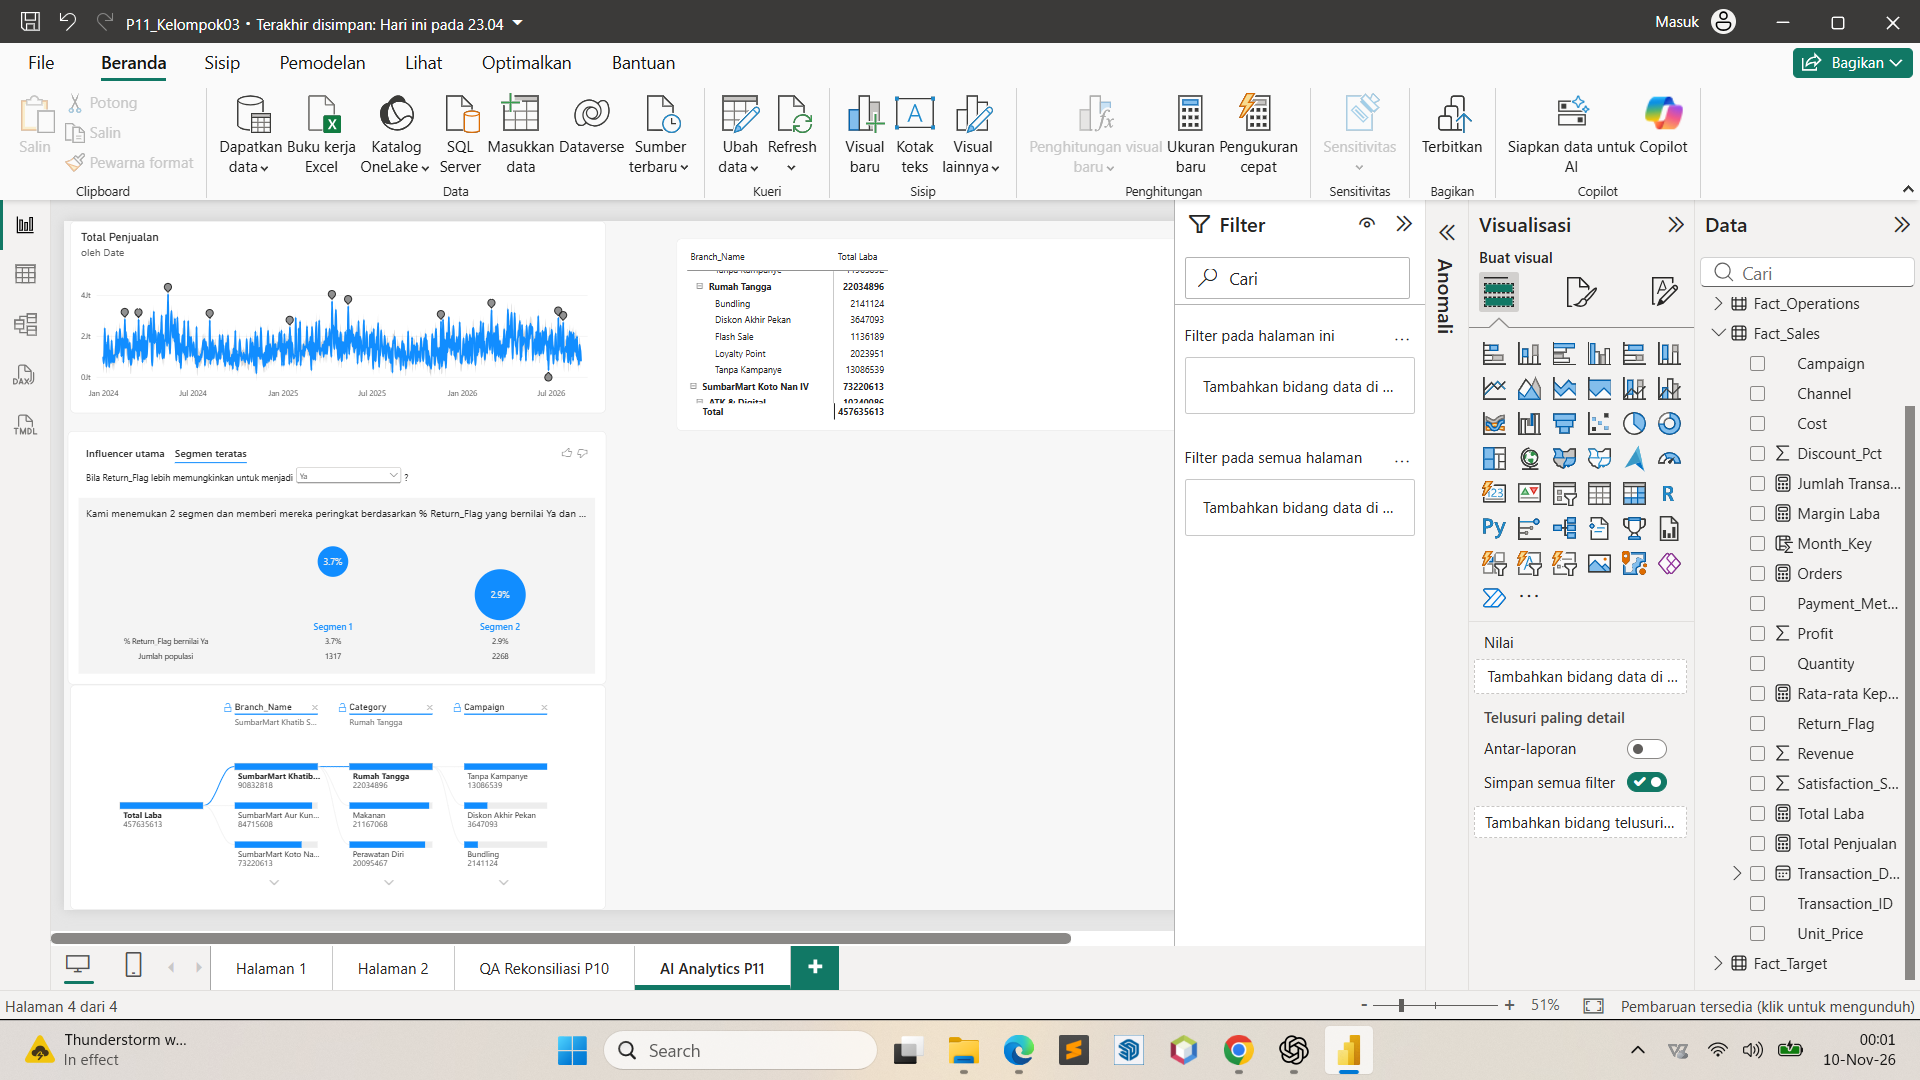

The page's visual inventory and layout, read from the dashboard file:
{"tool":"powerbi","page":{"name":"AI Analytics P11","canvas":[1920,1080],"ordinal":3},"visuals":[{"type":"lineChart","fields":{"Category":["Dim Date.Date"],"Y":["Fact_Sales.Total Penjualan"]},"box":[10.7,0,840.3,301.5],"z":0},{"type":"keyDriversVisual","fields":{"ExplainBy":["Dim_Branch.Branch_Name","Dim_Product.Category","Dim_Product.Subcategory","Sum(Fact_Sales.Discount_Pct)","Fact_Sales.Channel"],"Target":["Fact_Sales.Return_Flag"]},"box":[5.9,329.4,819.6,382.4],"z":1000},{"type":"decompositionTreeVisual","fields":{"Analyze":["Fact_Sales.Total Laba"],"ExplainBy":["Dim_Branch.Branch_Name","Dim_Product.Category","Fact_Sales.Campaign"]},"box":[9.8,727.5,815.7,352.9],"z":2000},{"type":"pivotTable","fields":{"Rows":["Dim_Branch.Branch_Name","Dim_Product.Category","Fact_Sales.Campaign"],"Values":["Fact_Sales.Total Laba"]},"box":[960.8,0,786.3,288.2],"z":2001},{"type":"cardVisual","fields":{"Data":["Fact_Sales.Return Rate"]},"box":[945.1,329.4,272.5,274.5],"z":2002}]}

Visuals, with their boxes on the page's 1920x1080 design canvas (x1, y1, x2, y2). These are canvas units, not pixel positions in the 1920x1080 screenshot, which may show the page scaled, cropped or inside an application window:
lineChart - Dim Date.Date x Fact_Sales.Total Penjualan: (left=11, top=0, right=851, bottom=302)
keyDriversVisual - Dim_Branch.Branch_Name x Dim_Product.Category: (left=6, top=329, right=826, bottom=712)
decompositionTreeVisual - Fact_Sales.Total Laba x Dim_Branch.Branch_Name: (left=10, top=728, right=826, bottom=1080)
pivotTable - Dim_Branch.Branch_Name x Dim_Product.Category: (left=961, top=0, right=1747, bottom=288)
cardVisual - Fact_Sales.Return Rate: (left=945, top=329, right=1218, bottom=604)
